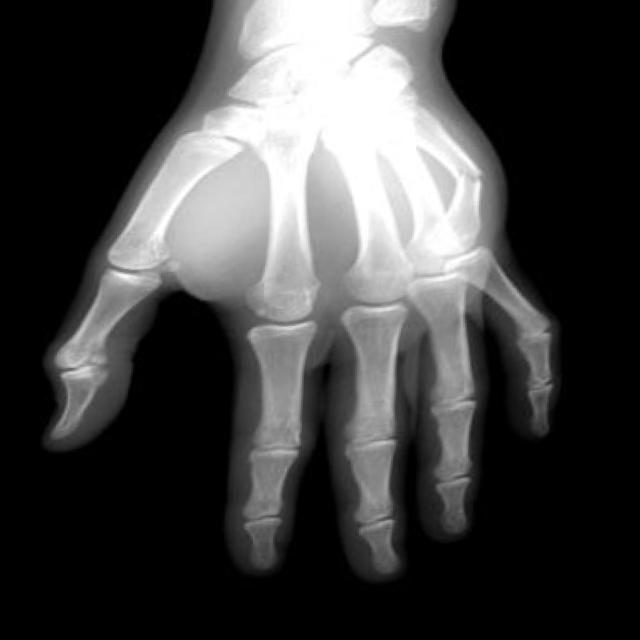fracture: (452, 171, 497, 202)
